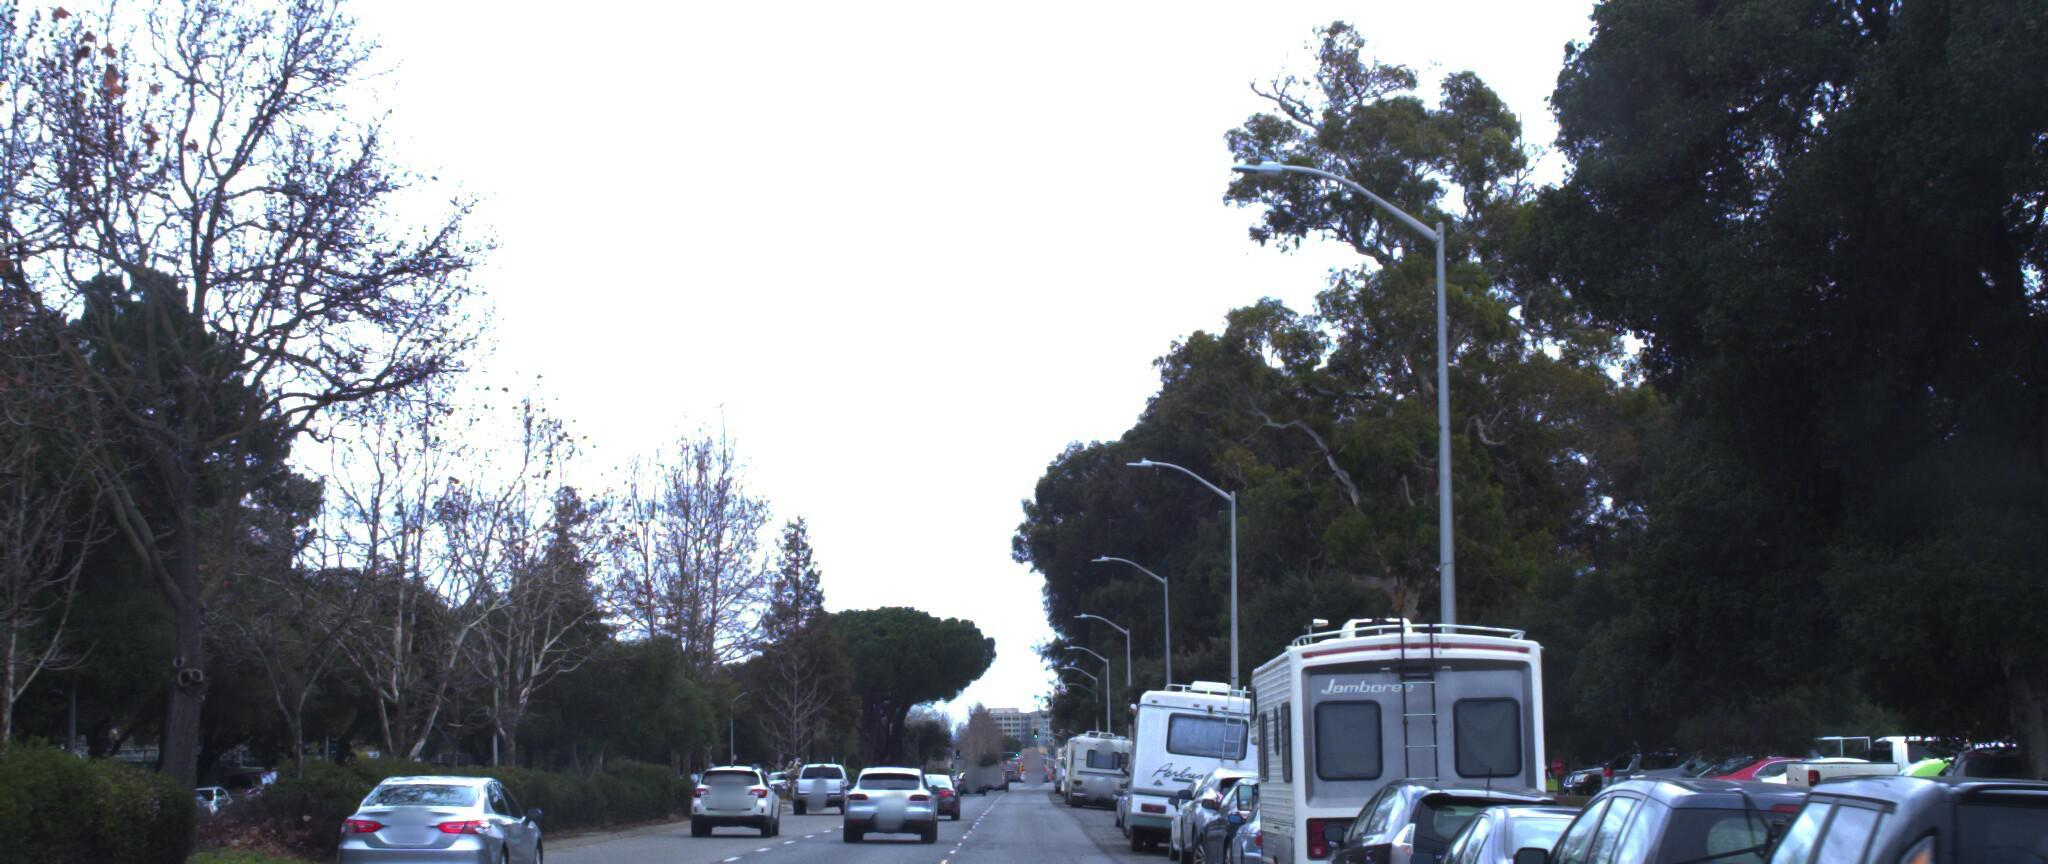car: (1476, 747, 1970, 864), (1639, 748, 2048, 864), (1304, 752, 1582, 864), (1388, 773, 1725, 864), (328, 764, 551, 864), (1182, 750, 1345, 864), (1160, 744, 1310, 864), (1212, 761, 1381, 864), (673, 749, 790, 841), (816, 760, 931, 839)
other_vehicle: (1230, 577, 1556, 864), (2000, 0, 2048, 864), (1115, 655, 1270, 847)
